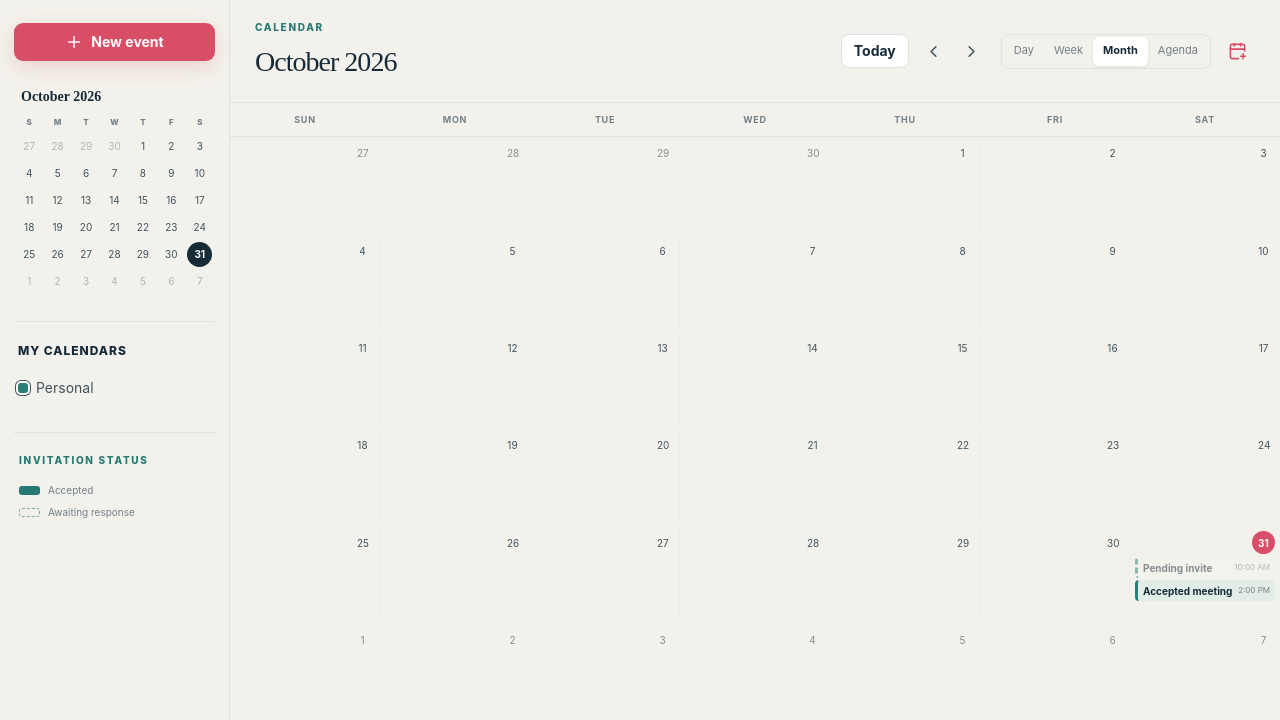
Scenario: calendar event dialog › shows unanswered invitations faintly, lets the user RSVP, and hides declined events
Click the text "Pending invite": (1178, 568) [1143, 562, 1212, 574]
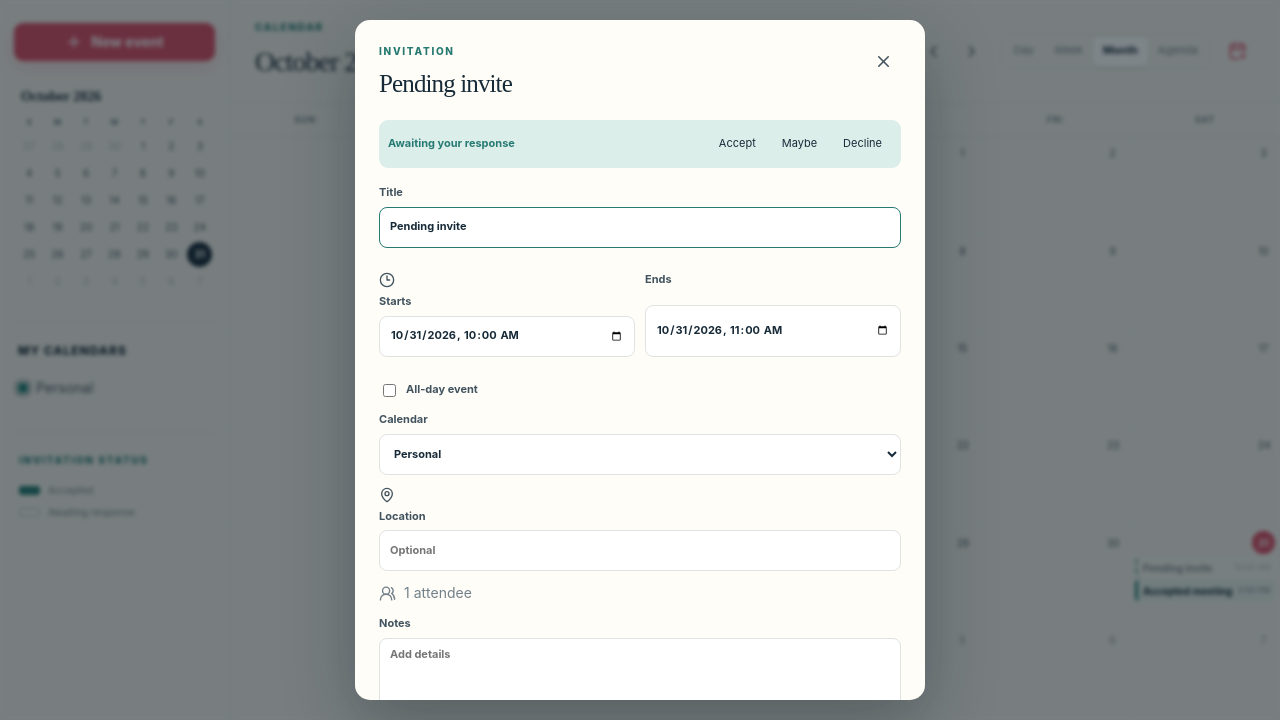
Expected: the text "Awaiting your response" is shown, [388, 136, 515, 152]
Expected: the button "Accept" is shown, [709, 129, 766, 159]
Expected: the button "Decline" is shown, [833, 129, 892, 159]
